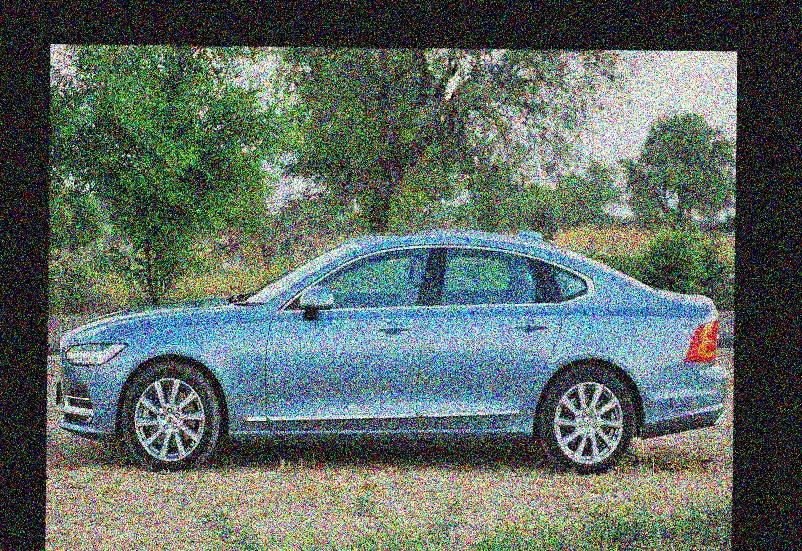car: (47, 157, 737, 512)
